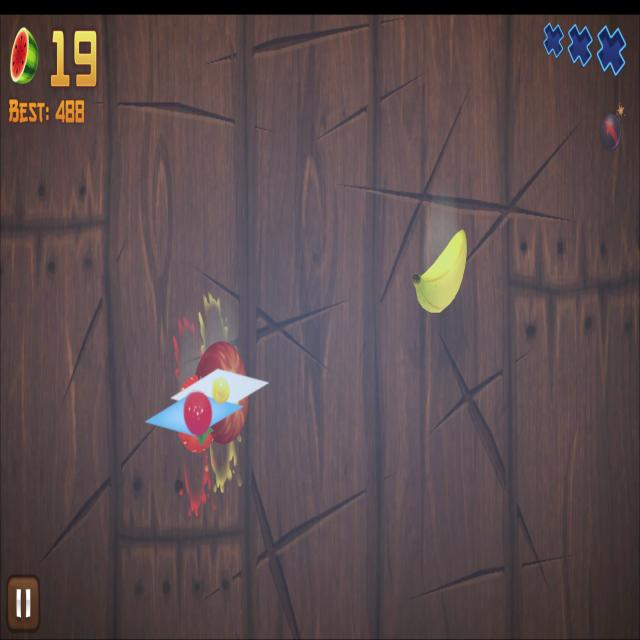fruit: (195, 340, 247, 444), (412, 228, 468, 314)
